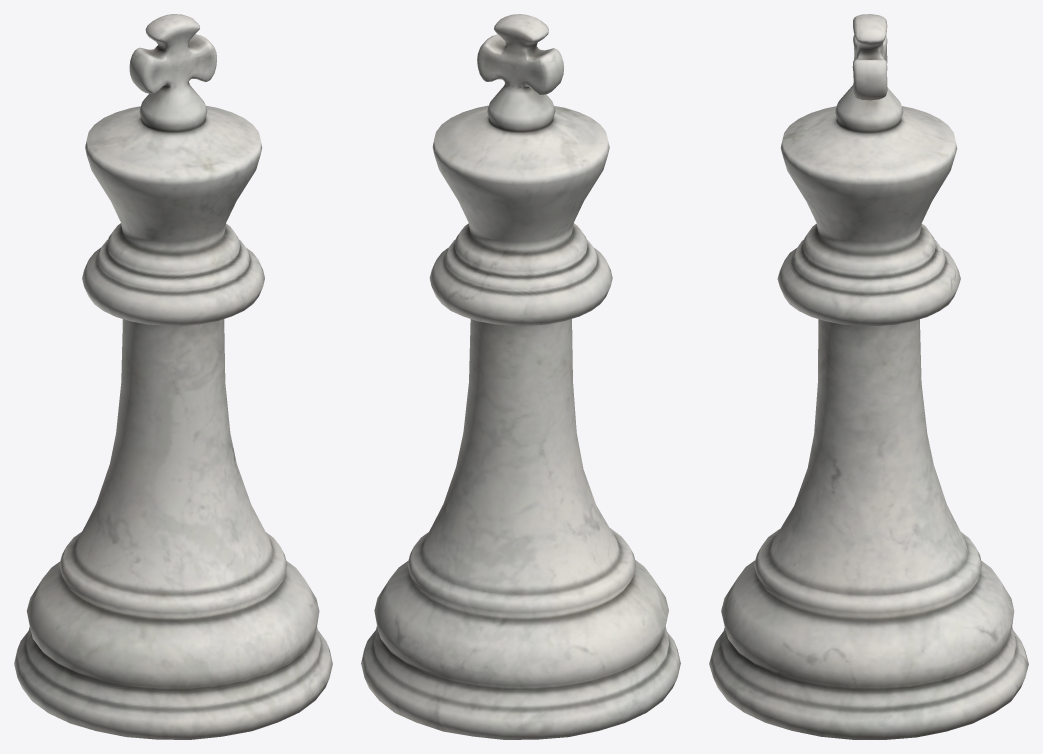
Rendered from chess-set-1k-piece-king-white.glb.
The picture shows the model from 3 angles, left to right: view 1: azimuth 30°, elevation 25°; view 2: azimuth 150°, elevation 25°; view 3: azimuth 270°, elevation 25°; orthographic projection.
Parts seen in each view (by area): view 1: piece_king_white; view 2: piece_king_white; view 3: piece_king_white.
Boxes of the visible parts, left/top/right/bottom form: piece_king_white: left=14, top=14, right=332, bottom=739; piece_king_white: left=361, top=14, right=680, bottom=739; piece_king_white: left=709, top=14, right=1028, bottom=739.
Size of the model in its own units: 0.0415 by 0.095 by 0.0417.
Materials: 1 (1 with a texture image).
